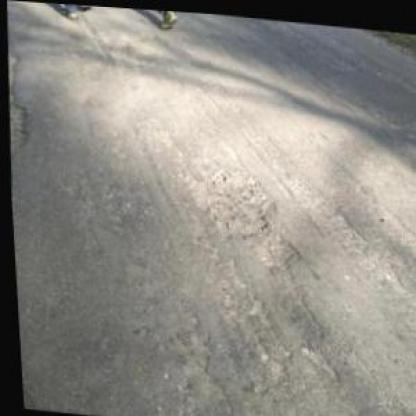pothole: (180, 164, 276, 238), (254, 230, 298, 266)
